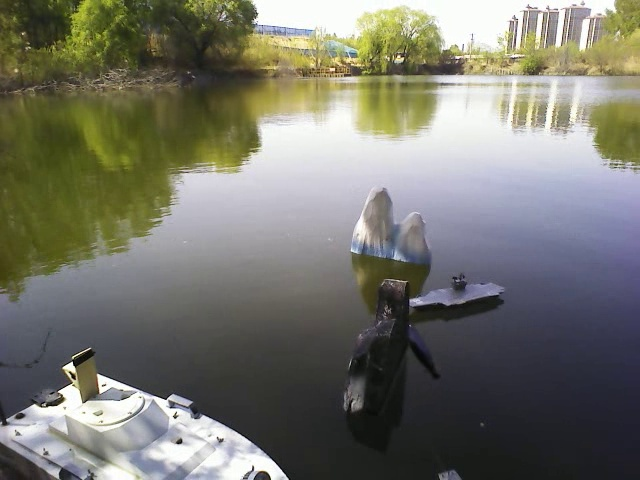aircraft_carrier: (416, 275, 509, 314)
boat: (4, 371, 293, 477)
iceberg: (349, 186, 437, 269)
rock: (338, 276, 411, 419)
submarine: (416, 331, 443, 381)
